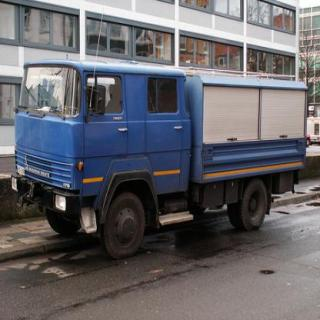Normal_vehicle: (14, 49, 311, 258)
